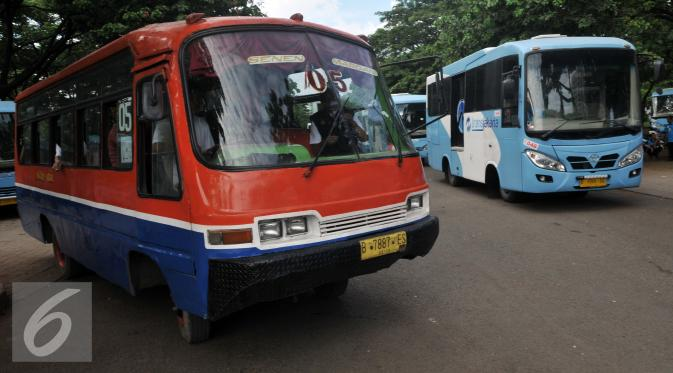plate: (361, 230, 404, 265), (582, 176, 607, 190)
